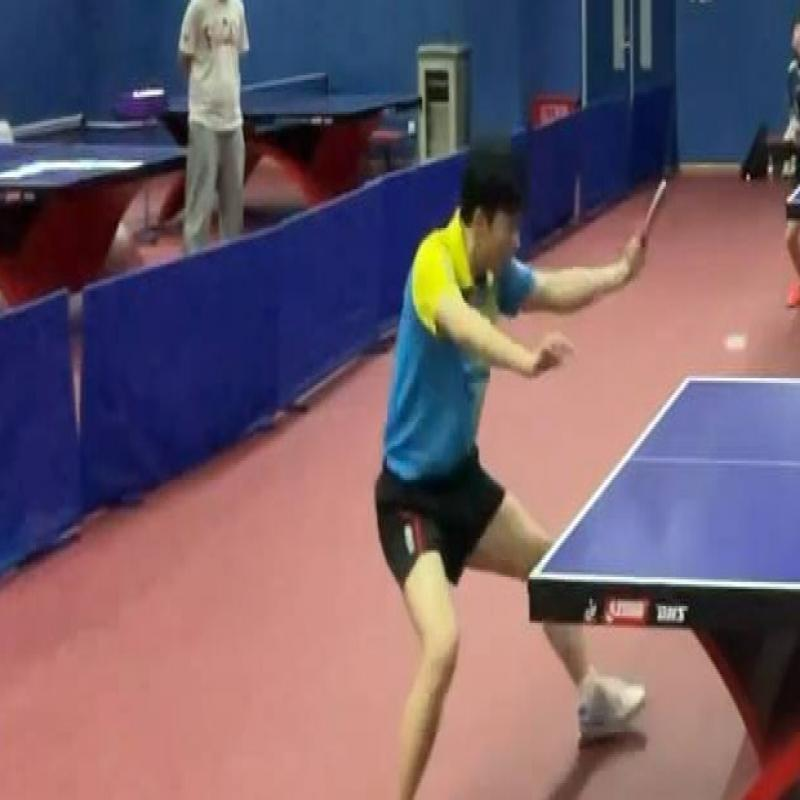bats: (629, 180, 676, 264)
